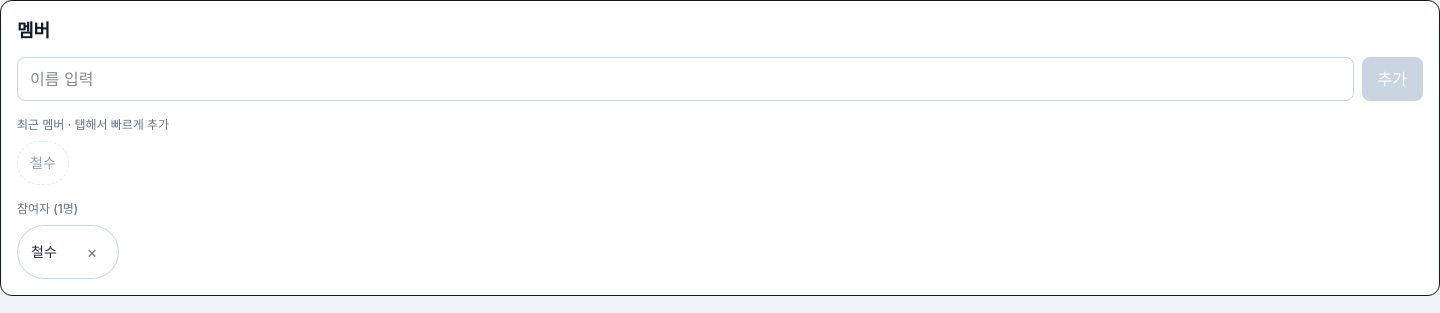
Test: MemberEditor › 참여자 칩 편집 중 Escape를 누르면 원래 이름으로 되돌아가고 스토어는 바뀌지 않는다
The image size is (1440, 313).
Step 1. Click the button "철수" below "참여자 (" → point(44, 252), box [22,230,66,274]
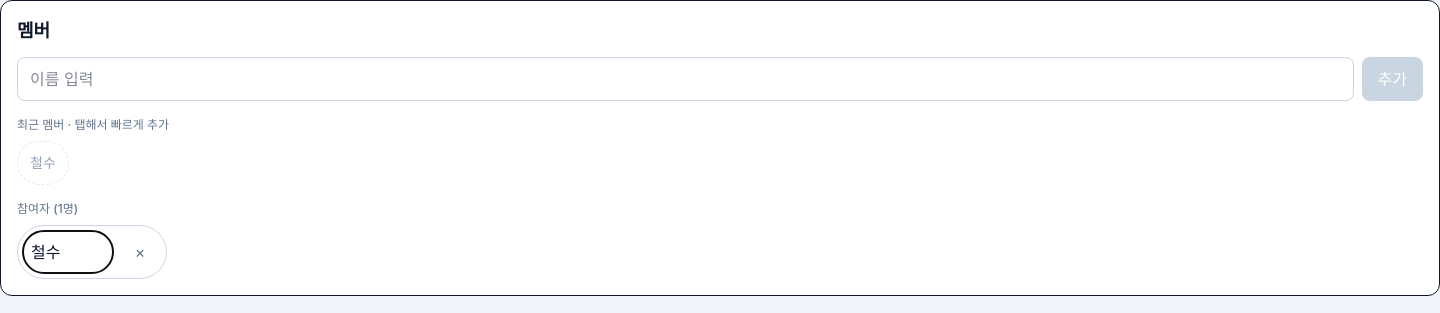
Step 2. Clear the field named "철수 이름 수정" → point(68, 252), box [22,230,114,274]
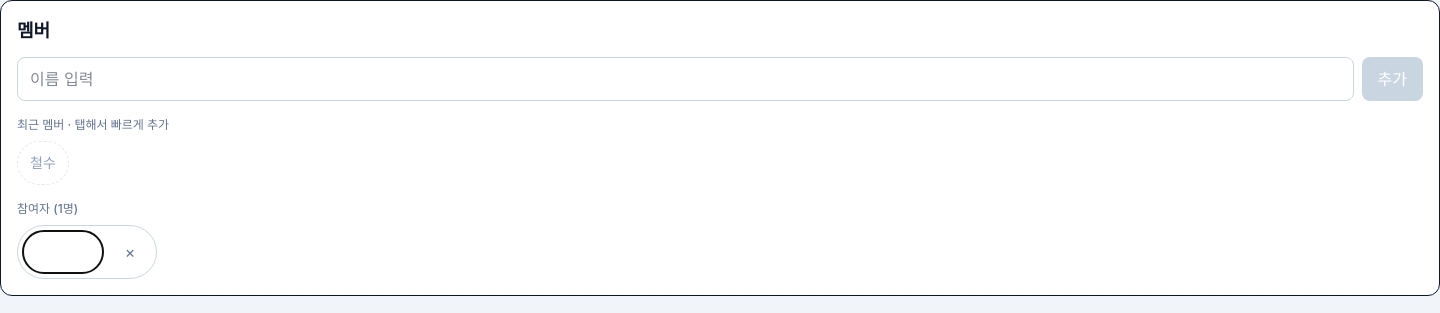
Step 3. Type "엉뚱한이름" into the field named "철수 이름 수정" → point(63, 252), box [22,230,104,274]
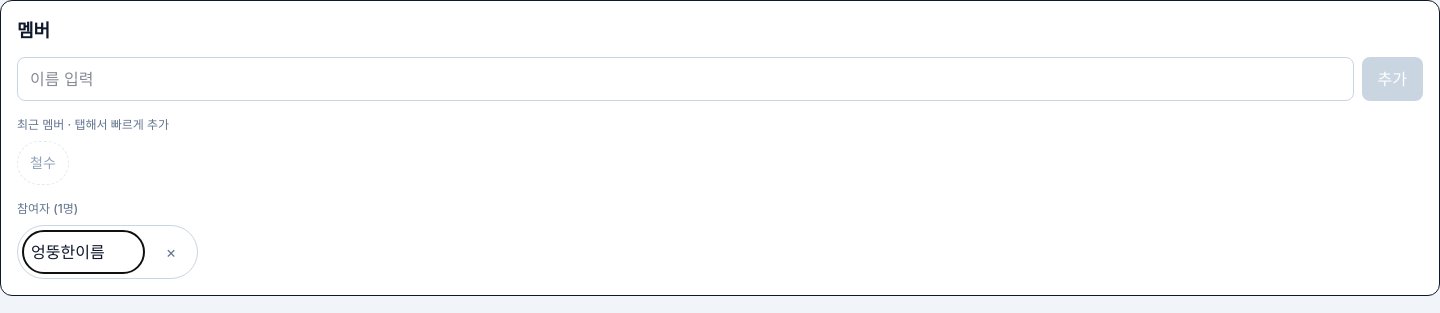
Step 4. Press Escape
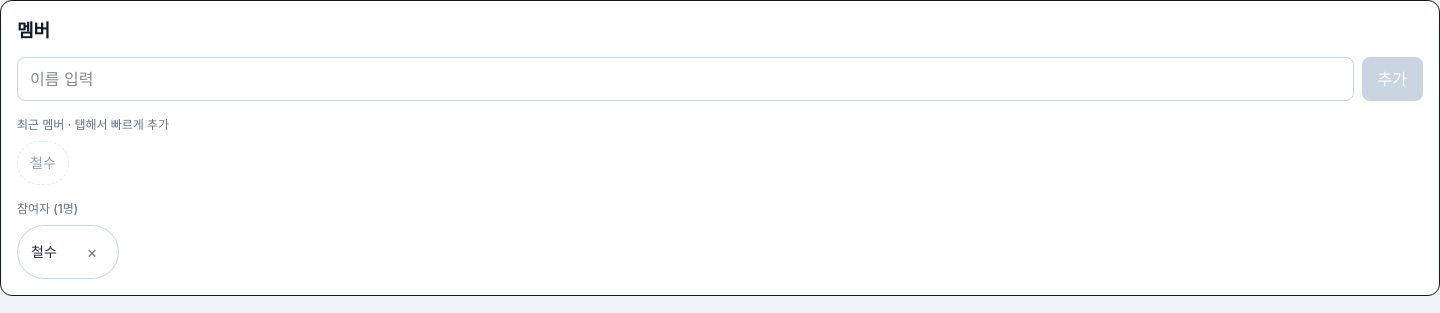
Result: the button "철수" below "참여자 (" is shown at [22,230,66,274]
